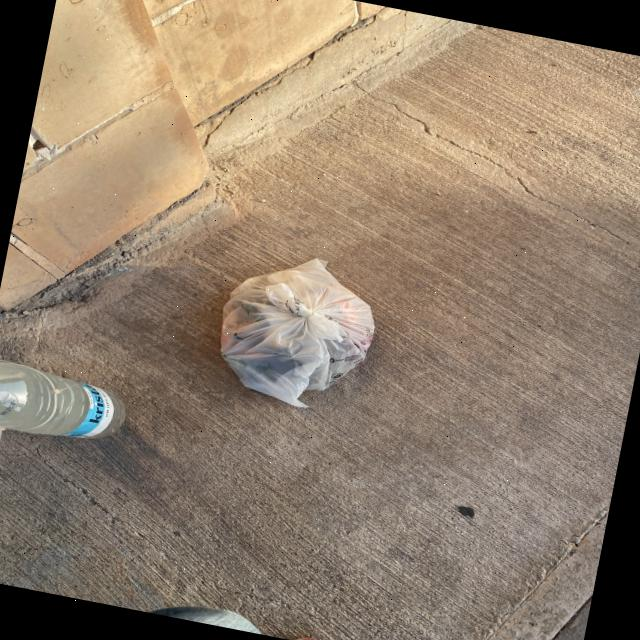Organic Waste: (204, 240, 388, 420)
